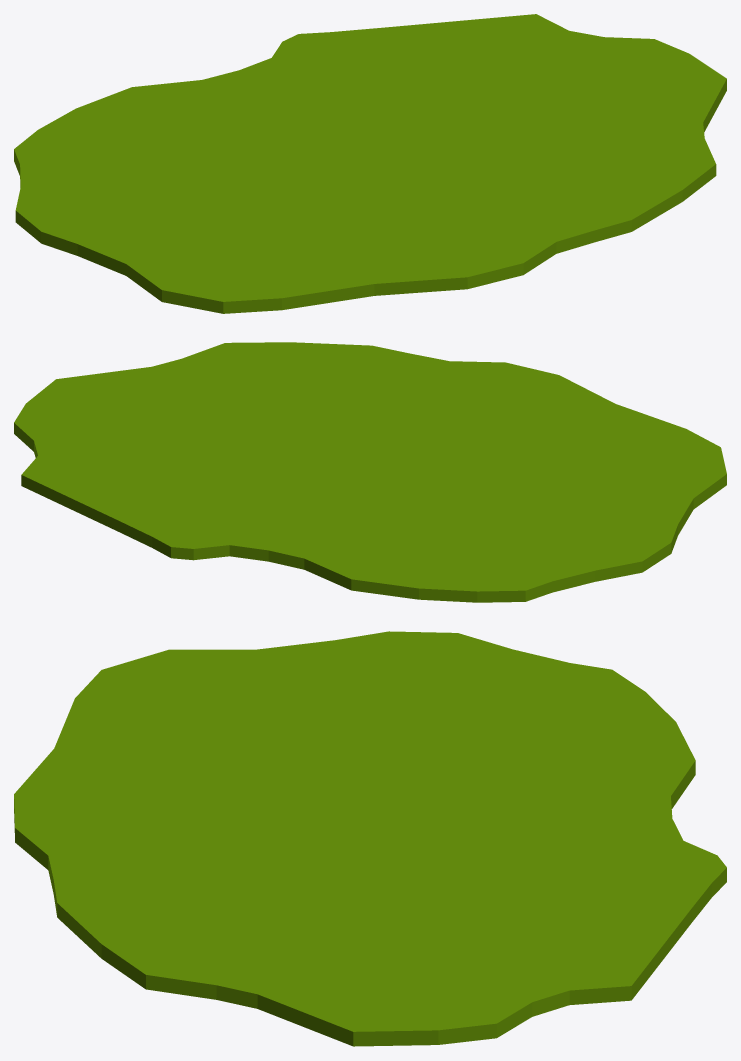
Rendered from Sand 2.FBX.
The picture shows the model from 3 angles, top to bottom: view 1: azimuth 30°, elevation 25°; view 2: azimuth 150°, elevation 25°; view 3: azimuth 270°, elevation 25°; orthographic projection. The views are drawn at different scales.
Visible parts, largest first — view 1: Plane001; view 2: Plane001; view 3: Plane001.
Boxes of the visible parts, x1,y1,x2,y2 form: Plane001: (14, 14, 726, 313); Plane001: (14, 342, 726, 602); Plane001: (14, 631, 726, 1046).
Size of the model in its own units: 146 by 2.49 by 110.
